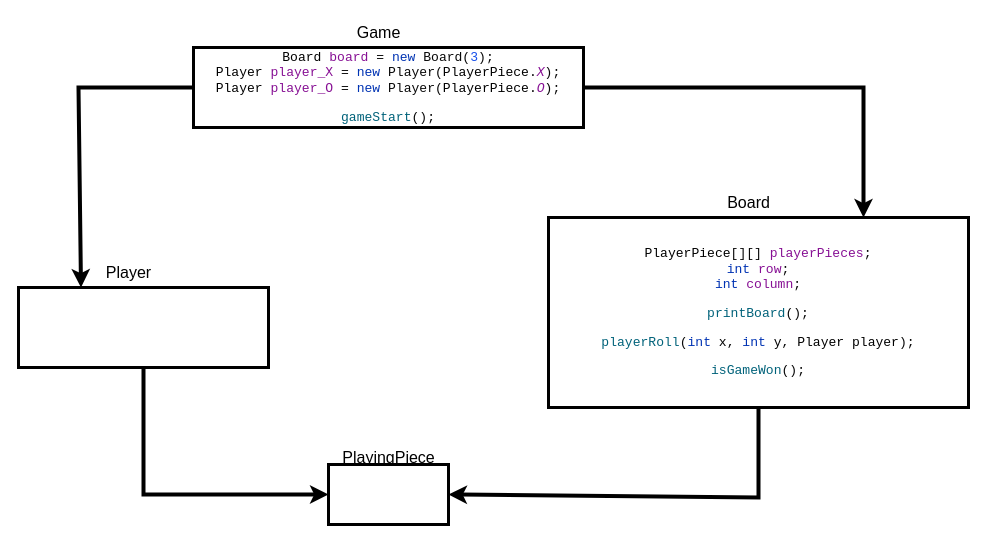
Some shapes in this 987 by 543 pixel diagram are drawn without their labels. Each missing label, with the box of its shape:
PlayerPiece playerPiece ;: (16, 286, 270, 368)
X , O ;: (326, 462, 450, 526)
